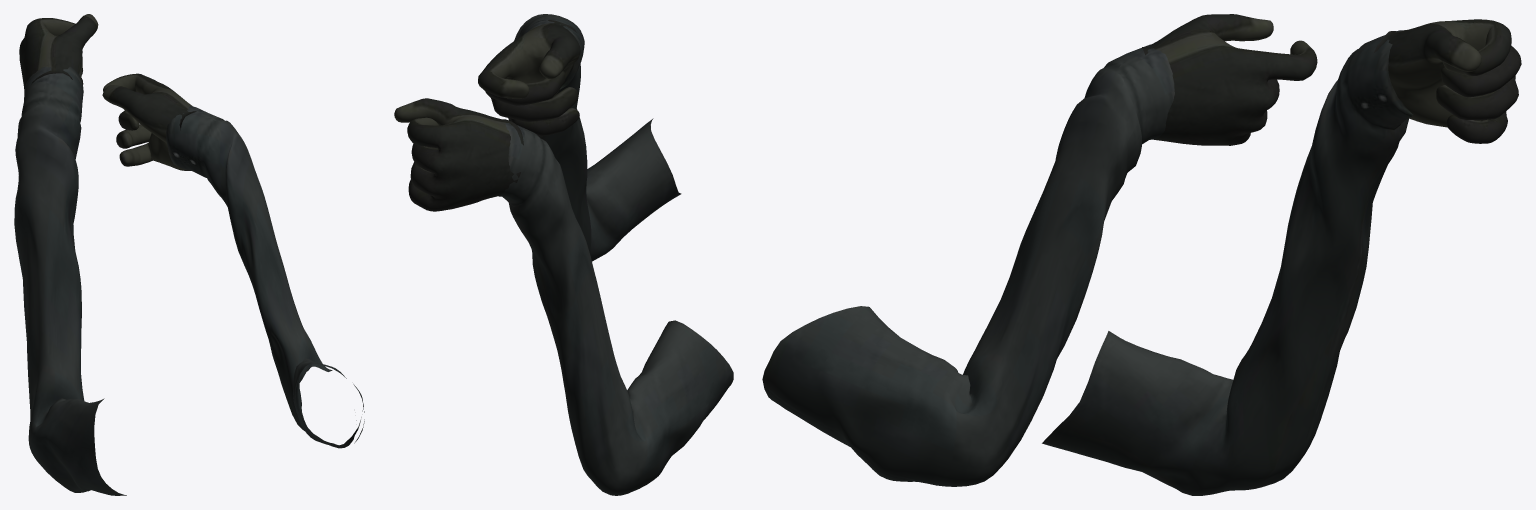
File: bras.glb
The picture shows the model from 3 angles, left to right: view 1: azimuth 30°, elevation 25°; view 2: azimuth 150°, elevation 25°; view 3: azimuth 270°, elevation 25°; orthographic projection. The views are drawn at different scales.
Parts seen in each view (by area): view 1: LeftArmMesh, RightArmMesh; view 2: LeftArmMesh, RightArmMesh; view 3: RightArmMesh, LeftArmMesh.
Boxes of the visible parts, x1,y1,x2,y2 form: LeftArmMesh: (14, 14, 126, 495); RightArmMesh: (102, 73, 364, 448); LeftArmMesh: (394, 98, 733, 495); RightArmMesh: (478, 14, 681, 261); RightArmMesh: (762, 14, 1317, 486); LeftArmMesh: (1042, 19, 1521, 495).
Size of the model in its own units: 0.6176 by 1.09 by 1.42.
Materials: 1 (1 with a texture image).
